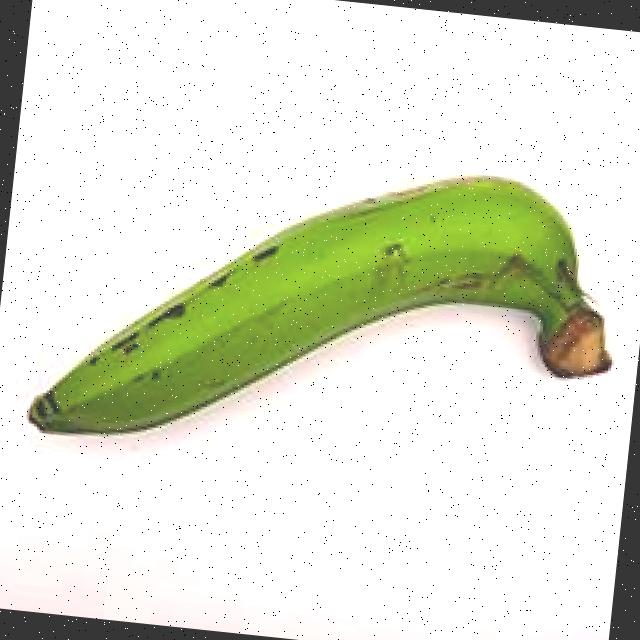Raw: (15, 100, 636, 516)
